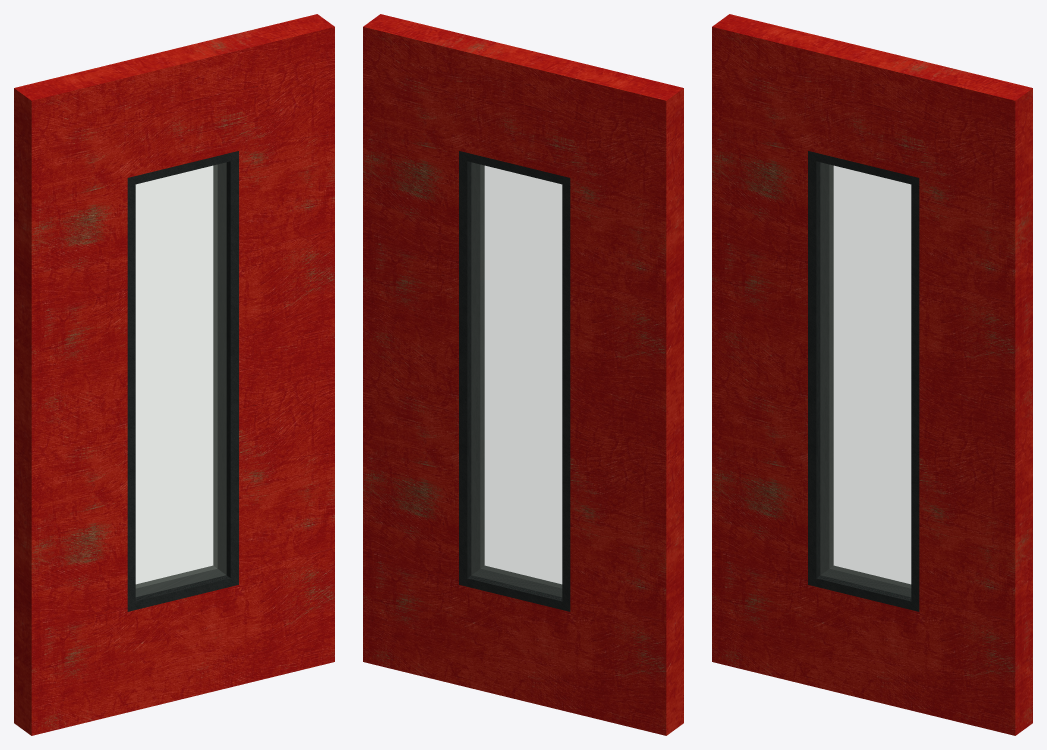
Rendered from ParedPintRojaVentana.fbx.
The picture shows the model from 3 angles, left to right: view 1: azimuth 30°, elevation 25°; view 2: azimuth 150°, elevation 25°; view 3: azimuth 330°, elevation 25°; orthographic projection.
Parts seen in each view (by area): view 1: ParedPintRojaVentana; view 2: ParedPintRojaVentana; view 3: ParedPintRojaVentana.
Part boxes in pixels (x1,y1,x2,y2): ParedPintRojaVentana: (14,14,334,735); ParedPintRojaVentana: (363,14,683,735); ParedPintRojaVentana: (712,14,1032,735).
Bounding box in the file's own units: 200 × 400 × 20.
